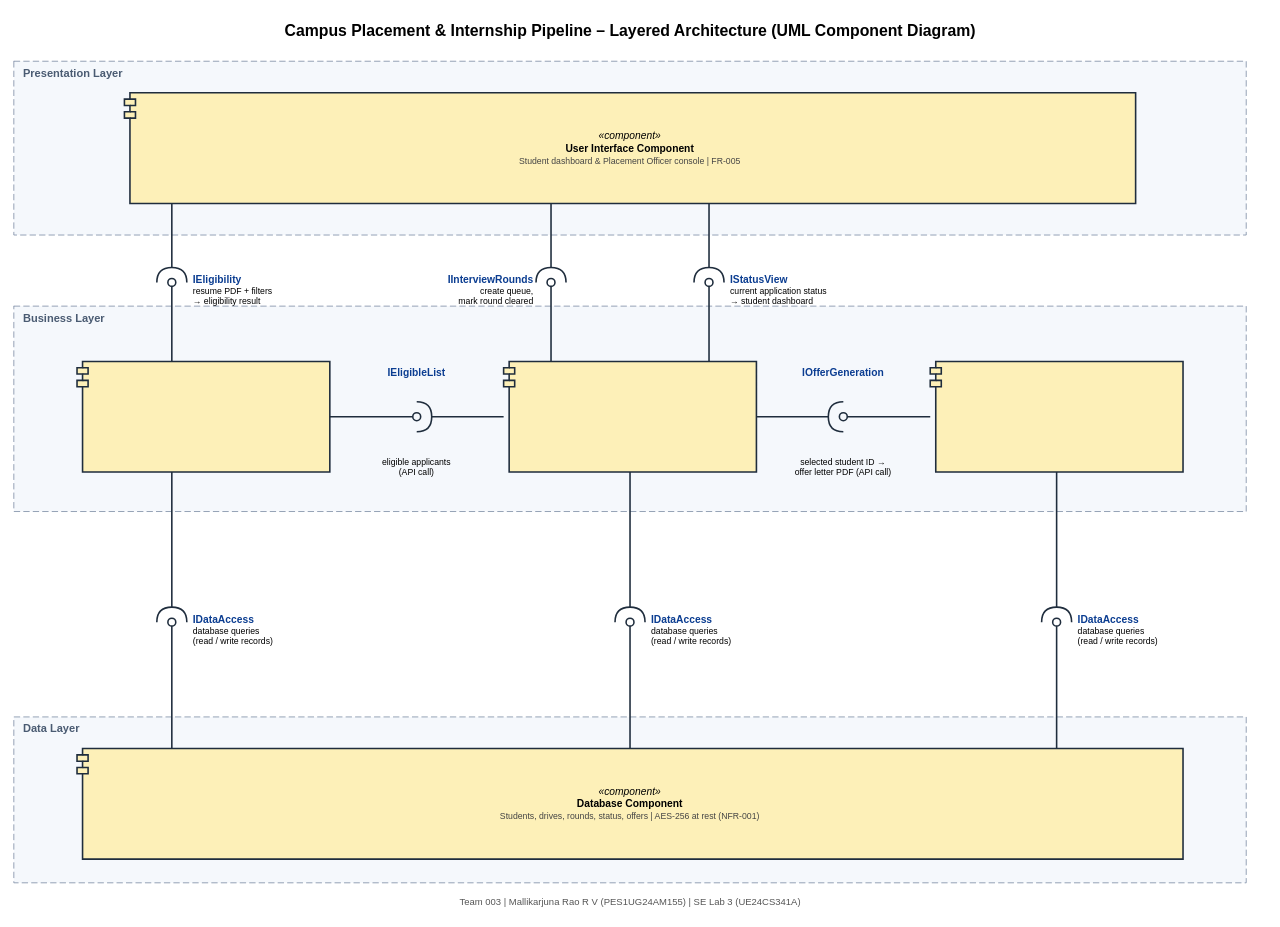
The diagram is 1280 pixels wide and 927 high, and some of its shapes have lost their labels. The shapes that lost their labels are listed below. From the top down, each one's box as (x1, y1, x2, y2) in pixels, then its label:
(76, 360, 330, 472): «component» Resume & Eligibility FR-001, FR-002
(502, 360, 757, 472): «component» Interview Round Manager FR-003, FR-005
(929, 360, 1183, 472): «component» Offer Letter Service FR-004
